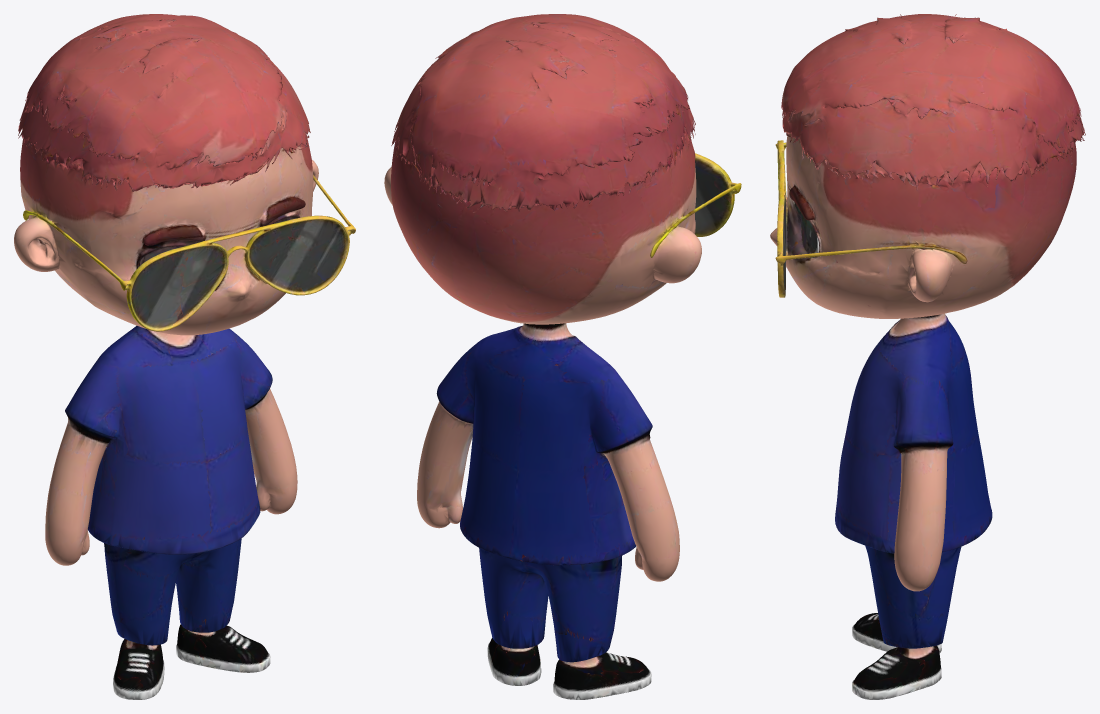
File: hadi-cool-glasses.glb
3 renders of one model, left to right at view 1: azimuth 30°, elevation 25°; view 2: azimuth 150°, elevation 25°; view 3: azimuth 270°, elevation 25°, orthographic. The views are drawn at different scales.
Size of the model in its own units: 0.9563 by 1.9 by 0.8581.
Materials: 1 (1 with a texture image).
